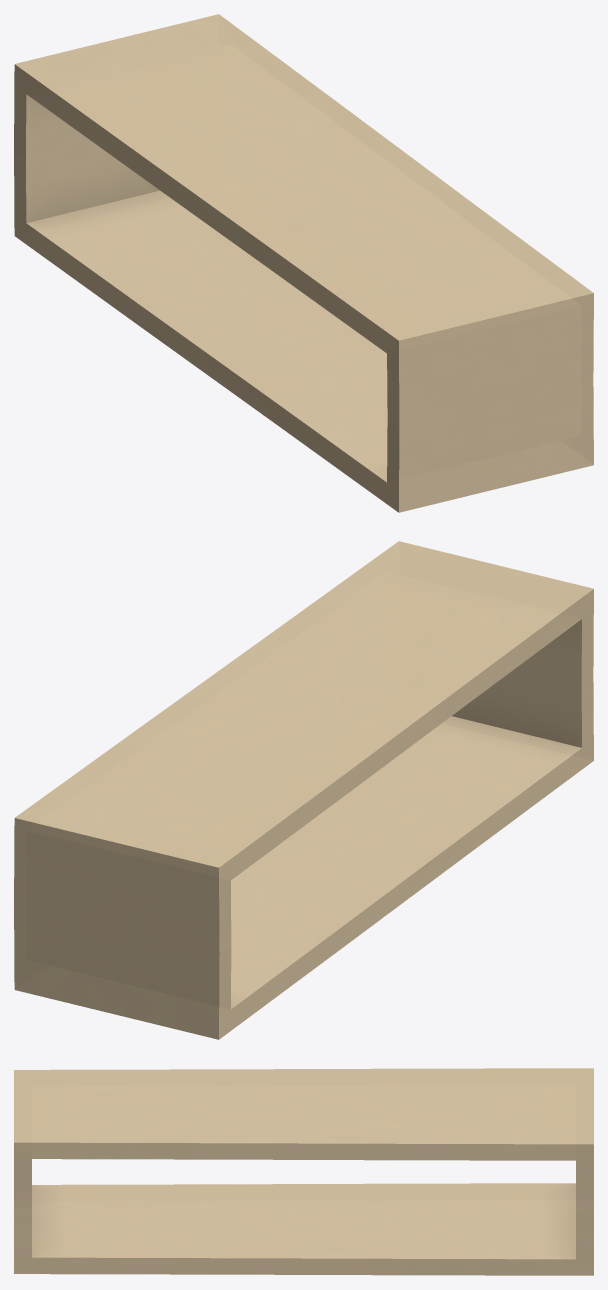
File: ruler-tape.fbx
3 renders of one model, top to bottom at view 1: azimuth 30°, elevation 25°; view 2: azimuth 150°, elevation 25°; view 3: azimuth 270°, elevation 25°, orthographic. The views are drawn at different scales.
Parts seen in each view (by area): view 1: ruler-tape; view 2: ruler-tape; view 3: ruler-tape.
Part boxes in pixels (box(x1,y1,x2,y2)): ruler-tape: box(14, 14, 593, 512); ruler-tape: box(14, 541, 593, 1039); ruler-tape: box(14, 1068, 593, 1275).
Bounding box in the file's own units: 1000 × 800 × 3200.
1 material, 1 textured.
